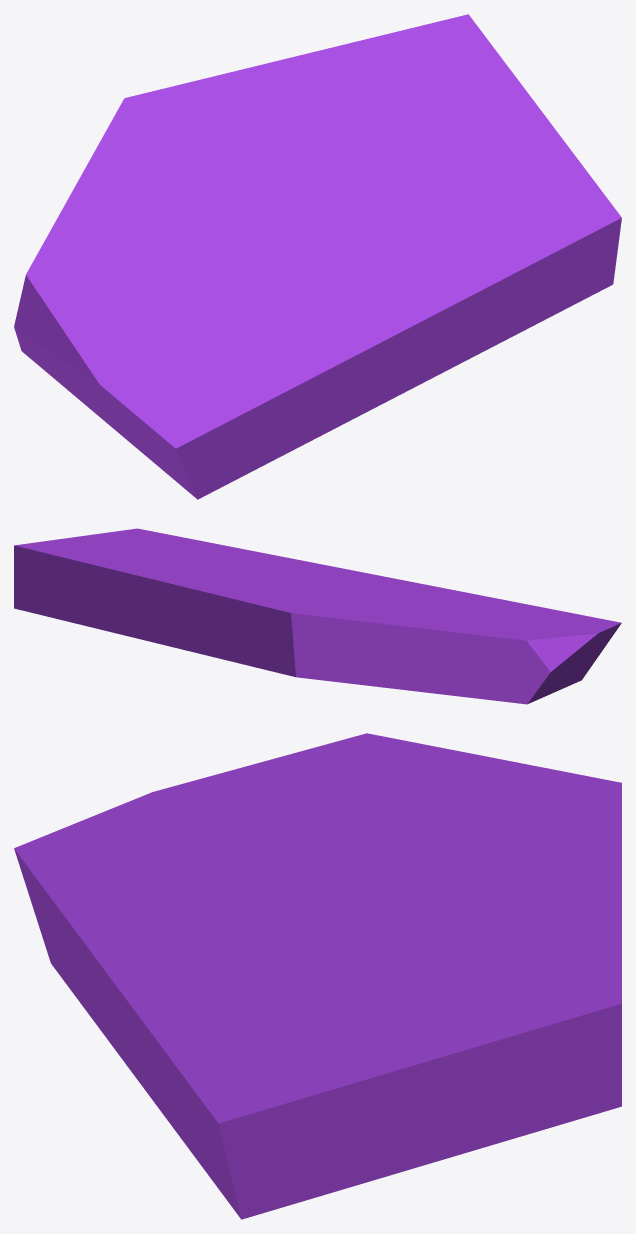
Rendered from Window_162_5_chunks.fbx.
3 views of the same model, one above another, from view 1: azimuth 30°, elevation 25°; view 2: azimuth 150°, elevation 25°; view 3: azimuth 270°, elevation 25° (orthographic). The views are drawn at different scales.
Visible parts, largest first — view 1: Window_162_5_1, Window_162_5_2, Window_162_5_5, Window_162_5_3, Window_162_5_6, Window_162_5_0; view 2: Window_162_5_1, Window_162_5_2, Window_162_5_0, Window_162_5_3, Window_162_5_5, Window_162_5_6; view 3: Window_162_5_1, Window_162_5_2, Window_162_5_5, Window_162_5_6, Window_162_5_3.
Part boxes in pixels (x1,y1,x2,y2): Window_162_5_1: (171, 14, 621, 336); Window_162_5_2: (14, 87, 269, 367); Window_162_5_5: (237, 252, 536, 478); Window_162_5_3: (92, 314, 249, 499); Window_162_5_6: (164, 231, 455, 344); Window_162_5_0: (14, 328, 156, 464); Window_162_5_1: (14, 528, 345, 674); Window_162_5_2: (254, 593, 586, 686); Window_162_5_0: (377, 632, 594, 704); Window_162_5_3: (482, 606, 621, 685); Window_162_5_5: (231, 546, 541, 607); Window_162_5_6: (266, 561, 490, 617); Window_162_5_1: (180, 812, 621, 1219); Window_162_5_2: (185, 733, 621, 891); Window_162_5_5: (48, 879, 228, 1156); Window_162_5_6: (163, 828, 338, 1015); Window_162_5_3: (14, 786, 243, 987).
Bounding box in the file's own units: 751 × 266 × 537.
